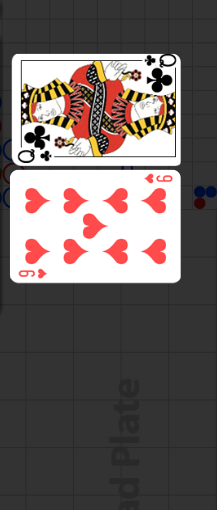9H: (18, 267, 49, 279)
QC: (134, 55, 181, 99), (14, 122, 60, 166)
